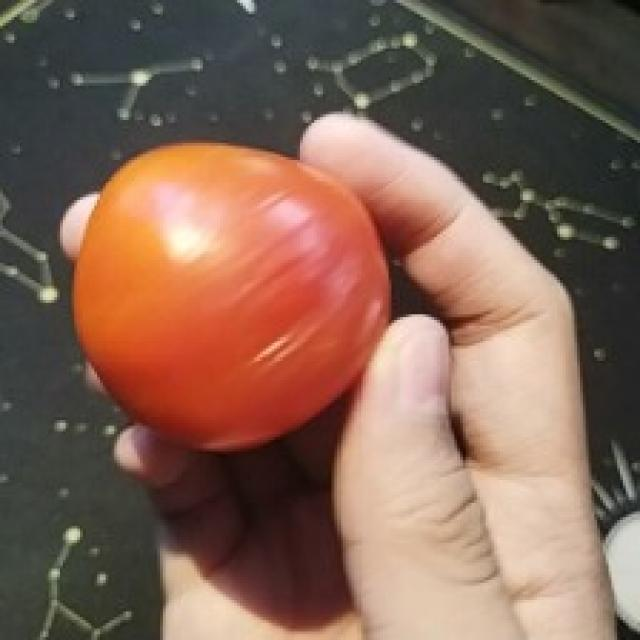Rotten Tomato: (68, 126, 420, 447)
